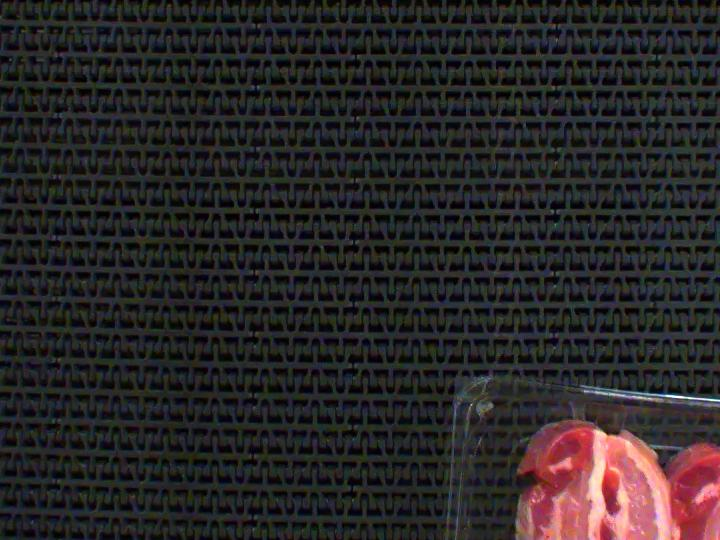packaging-error: (564, 389, 592, 423)
